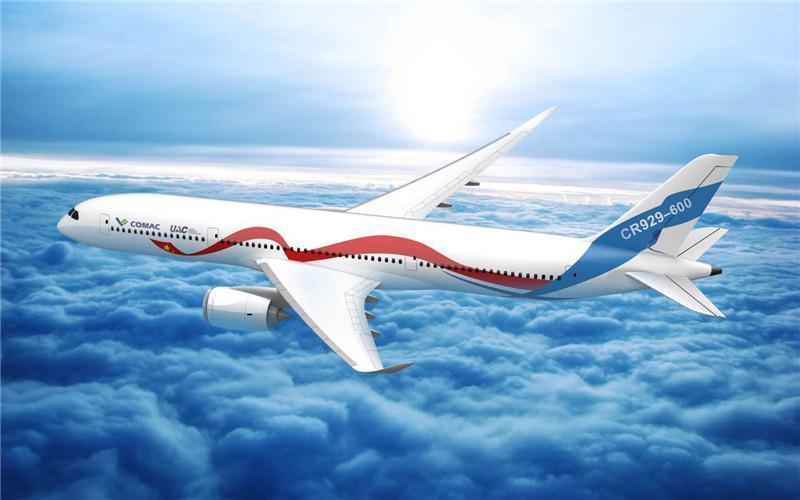airplane: (32, 101, 744, 373)
